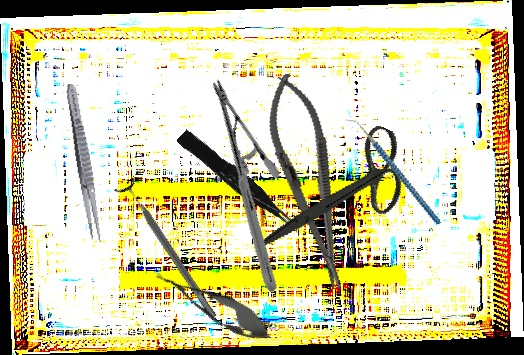Chopper: (344, 101, 442, 242)
Dressing Forceps: (62, 82, 106, 245)
Fixation Ring: (113, 176, 224, 325)
Iris Scissors: (254, 98, 423, 293)
Micro Scissor: (148, 260, 279, 351)
Needle Holder: (138, 79, 351, 293), (256, 68, 362, 296)
Tissue Forceps: (176, 124, 298, 238)
